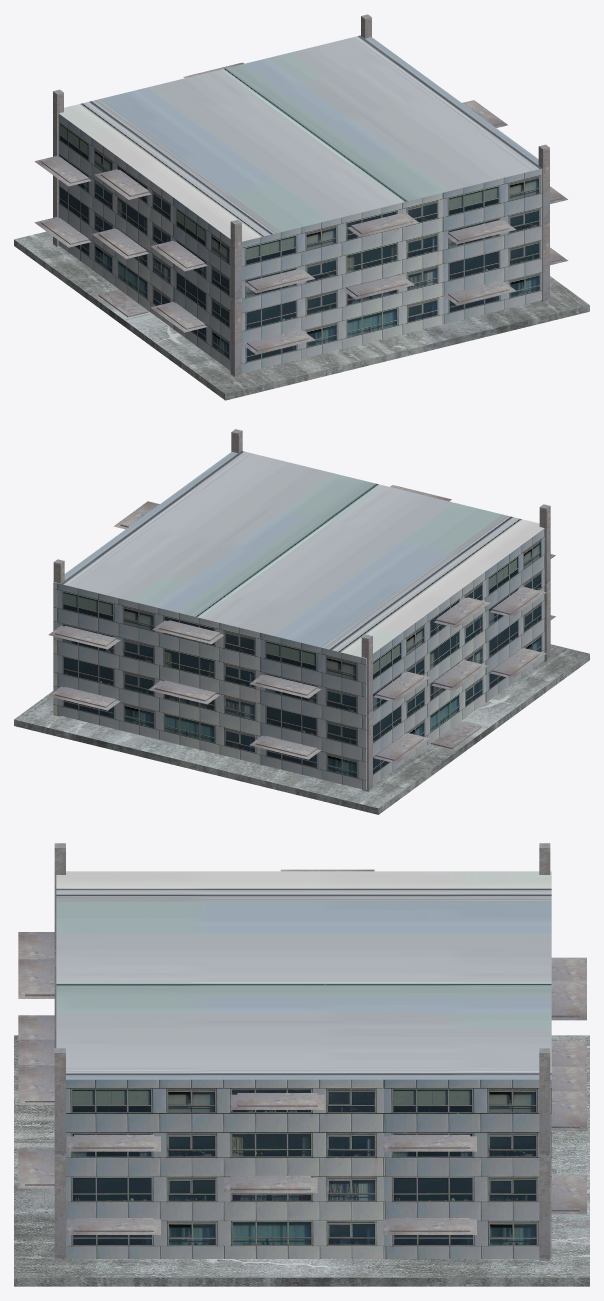
File: BagSS06base_100.fbx
3 views of the same model, one above another, from view 1: azimuth 30°, elevation 25°; view 2: azimuth 150°, elevation 25°; view 3: azimuth 270°, elevation 25° (orthographic). The views are drawn at different scales.
Parts seen in each view (by area): view 1: baseBox0, baseBase0, basebalc0, basebeams0; view 2: baseBox0, baseBase0, basebalc0, basebeams0; view 3: baseBox0, basebalc0, baseBase0, basebeams0.
Boxes of the visible parts, box(x1,y1,x2,y2) form: baseBox0: box(58, 35, 542, 373); baseBase0: box(14, 231, 589, 400); basebalc0: box(34, 14, 568, 354); basebeams0: box(53, 91, 549, 376); baseBox0: box(53, 451, 544, 790); baseBase0: box(14, 644, 589, 814); basebalc0: box(48, 429, 555, 763); basebeams0: box(53, 506, 550, 791); baseBox0: box(56, 871, 551, 1258); basebalc0: box(18, 843, 586, 1234); baseBase0: box(14, 1035, 589, 1286); basebeams0: box(54, 1053, 550, 1260).
Size of the model in its own units: 46.45 by 19.39 by 46.65.
